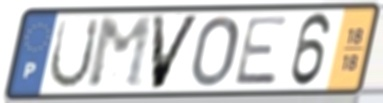6: (288, 11, 332, 89)
E: (231, 14, 293, 88)
M: (85, 14, 156, 92)
O: (189, 14, 242, 90)
U: (46, 15, 103, 91)
V: (149, 13, 204, 92)
